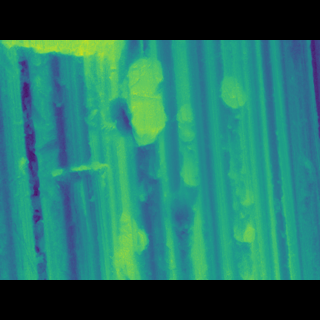Loch: (115, 80, 172, 152), (0, 67, 116, 98), (172, 117, 204, 181), (108, 198, 152, 243), (218, 95, 251, 123), (231, 205, 256, 222)
